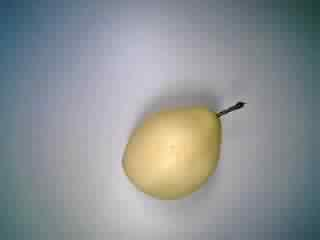pear: (114, 91, 249, 209)
